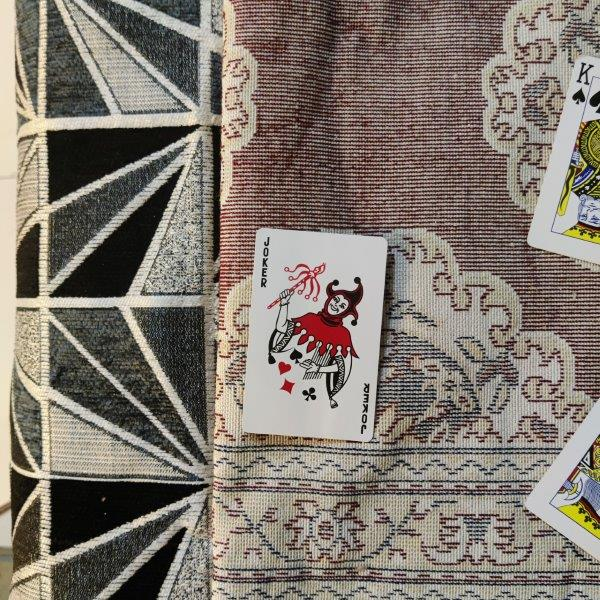Joker: (243, 227, 389, 443)
King of Spades: (527, 55, 600, 266)
